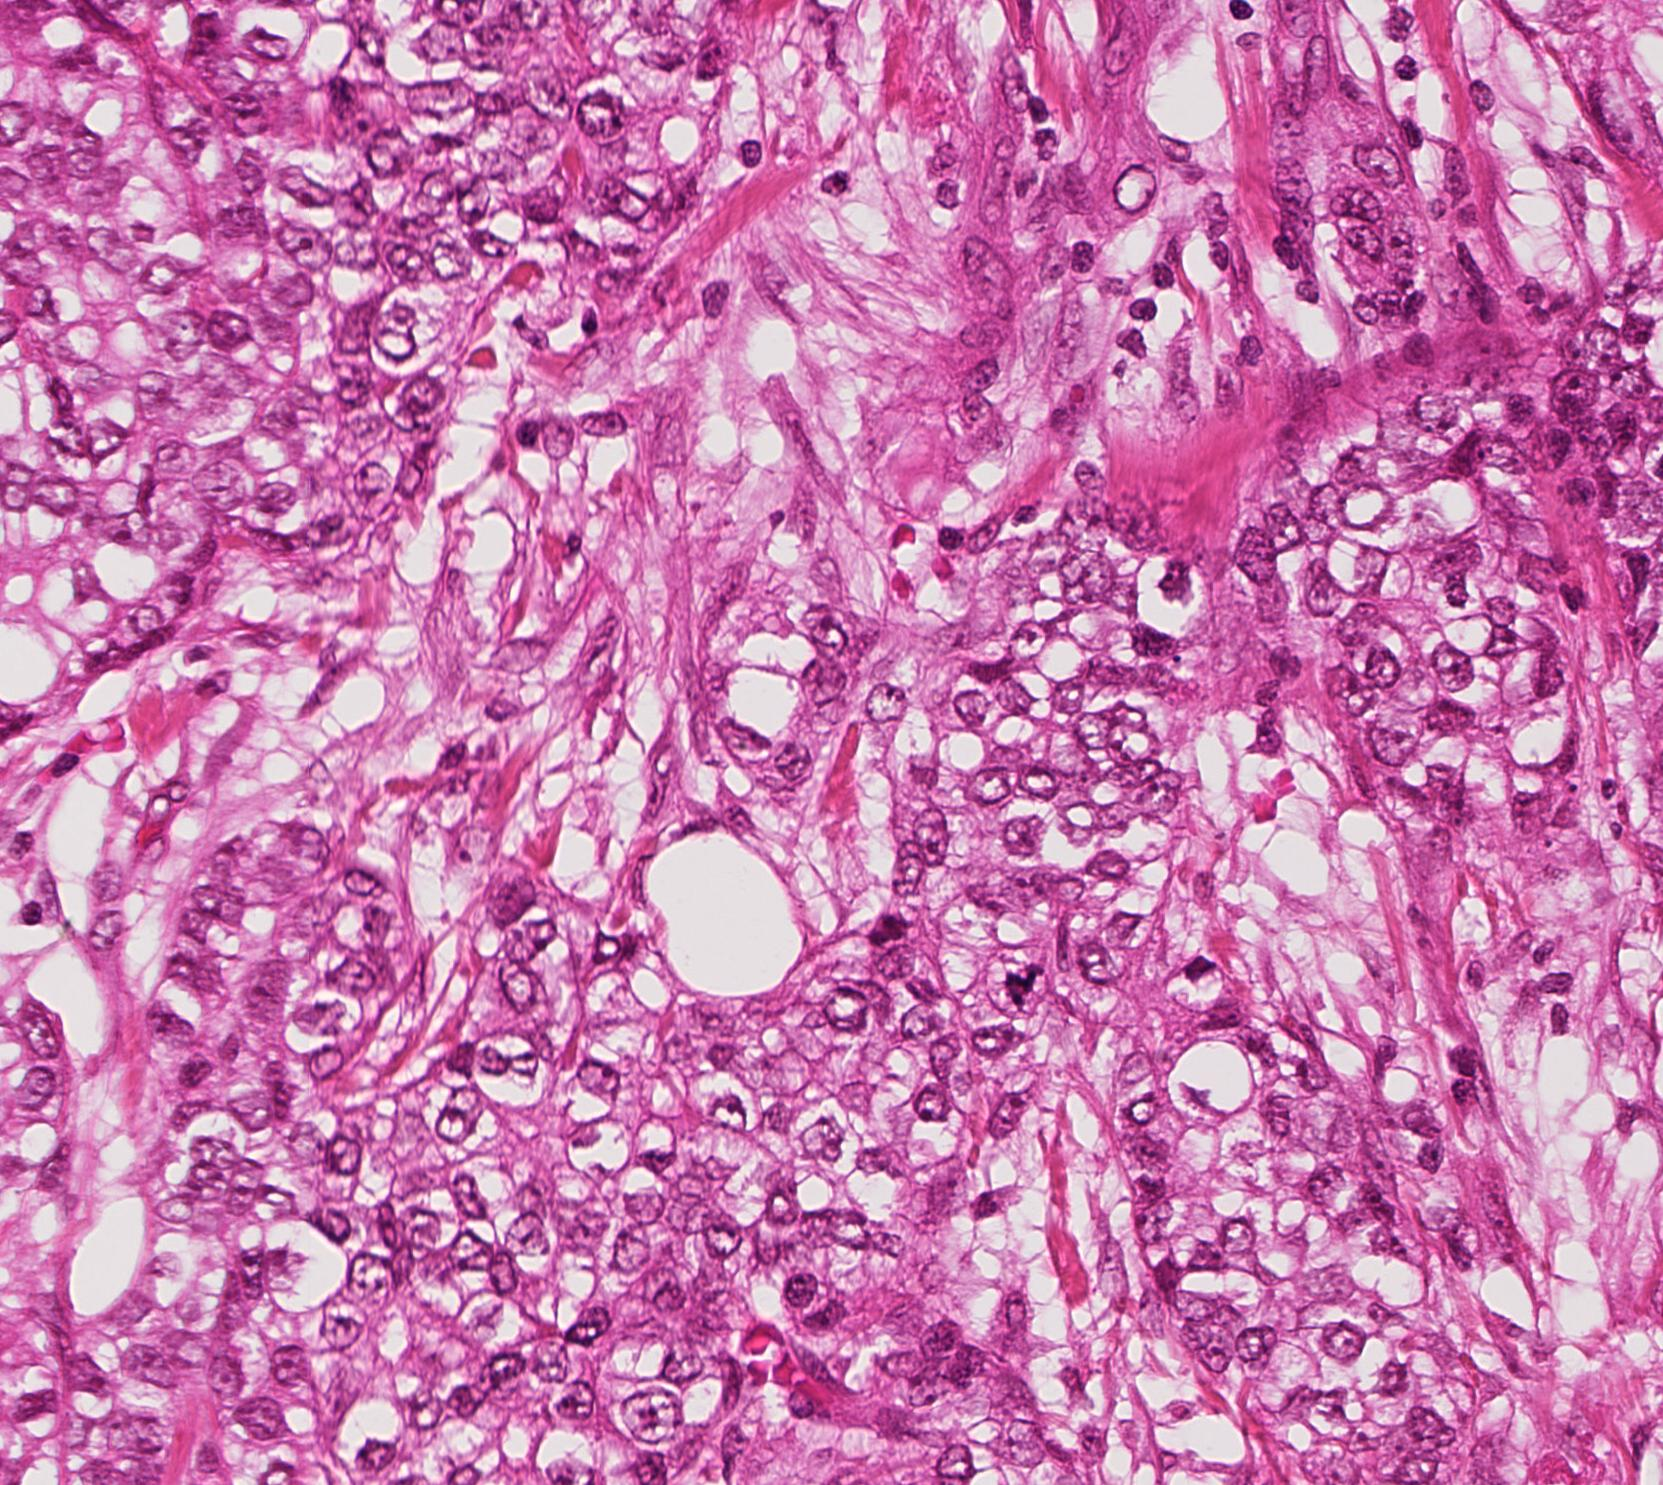mitosis: (857, 904, 918, 965), (991, 958, 1049, 1018)
